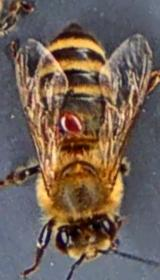varroa_mite: (54, 101, 88, 140)
